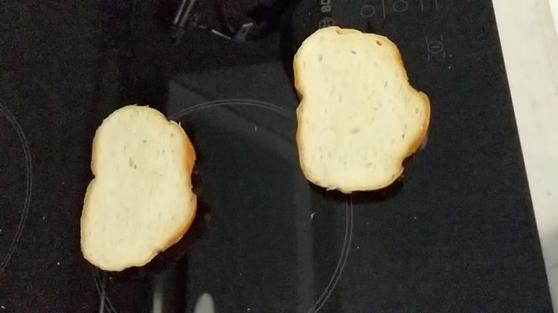white_bread: (291, 29, 434, 194), (80, 103, 198, 270)
